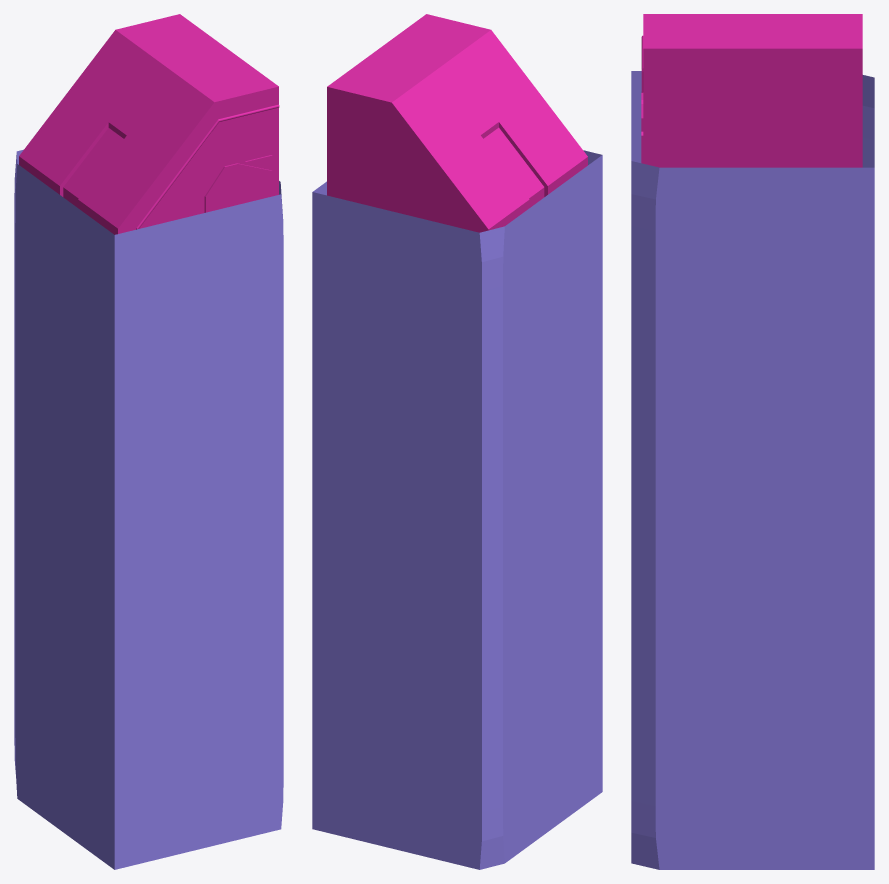
3 views of the same model, side by side, from view 1: azimuth 30°, elevation 25°; view 2: azimuth 150°, elevation 25°; view 3: azimuth 270°, elevation 25° (orthographic). The views are drawn at different scales.
Visible parts, largest first — view 1: Mesh_2860.001, m_0_0.005, m_0_2.005, m_10_4.005, m_11_2.005, m_12_1.005, m_12_3.005, m_12_4.005, m_13_0.005, m_13_2.005, m_13_3.005, m_14_0.005 (+163 smaller); view 2: Mesh_2860.001, m_10_13.005, m_10_16.005, m_11_13.005, m_11_16.005, m_14_14.005, m_15_14.005, m_17_13.005, m_17_16.005, m_18_13.005, m_18_16.005, m_1_14.005 (+143 smaller); view 3: Mesh_2860.001, m_10_7.005, m_17_7.005, m_18_7.005, m_19_7.005, m_3_7.005, m_4_7.005, m_5_7.005, m_6_7.005, m_8_7.005, m_9_7.005, m_7_7.005 (+143 smaller).
Boxes of the visible parts, x1,y1,x2,y2 form: Mesh_2860.001: (19, 14, 279, 234); m_0_0.005: (114, 834, 142, 869); m_0_2.005: (171, 820, 199, 855); m_10_4.005: (228, 518, 256, 553); m_11_2.005: (171, 503, 199, 538); m_12_1.005: (143, 481, 171, 516); m_12_3.005: (200, 467, 228, 502); m_12_4.005: (228, 460, 256, 495); m_13_0.005: (114, 459, 142, 494); m_13_2.005: (171, 445, 199, 480); m_13_3.005: (200, 438, 228, 473); m_14_0.005: (114, 430, 142, 465); Mesh_2860.001: (327, 14, 587, 232); m_10_13.005: (312, 510, 340, 546); m_10_16.005: (398, 531, 426, 567); m_11_13.005: (312, 481, 340, 517); m_11_16.005: (398, 502, 426, 538); m_14_14.005: (341, 401, 369, 437); m_15_14.005: (341, 373, 369, 408); m_17_13.005: (312, 308, 340, 343); m_17_16.005: (398, 328, 426, 364); m_18_13.005: (312, 279, 340, 314); m_18_16.005: (398, 300, 426, 335); m_1_14.005: (341, 778, 369, 813); Mesh_2860.001: (641, 14, 862, 167); m_10_7.005: (655, 518, 693, 550); m_17_7.005: (655, 295, 693, 327); m_18_7.005: (655, 263, 693, 295); m_19_7.005: (655, 231, 693, 263); m_3_7.005: (655, 742, 693, 774); m_4_7.005: (655, 710, 693, 742); m_5_7.005: (655, 678, 693, 710); m_6_7.005: (655, 646, 693, 678); m_8_7.005: (655, 582, 693, 614); m_9_7.005: (655, 550, 693, 582); m_7_7.005: (655, 614, 693, 646).
Size of the model in its own units: 37.9 by 149 by 40.42.
